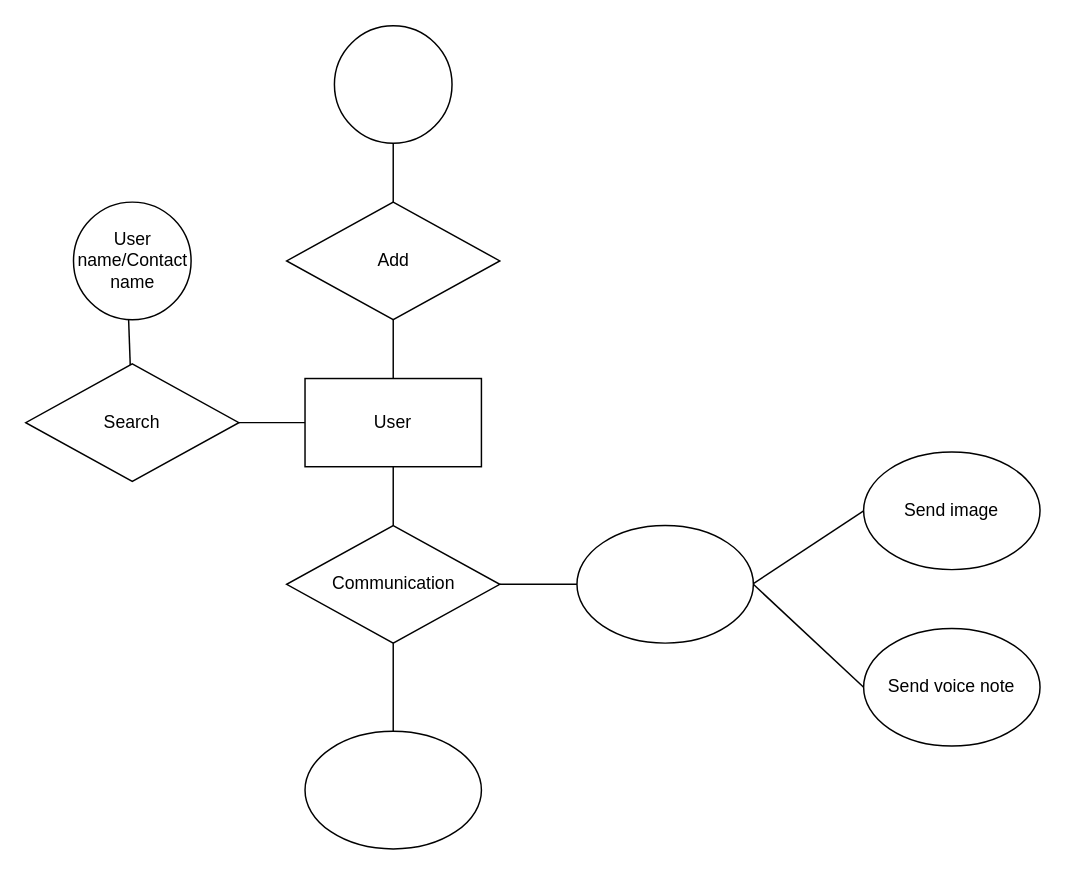
Some shapes in this 1066 by 875 pixel diagram are drawn without their labels. Here are the shapes that lost their labels. From the top down, the box of each, then its label:
(333, 24, 452, 143): Contact
(576, 524, 753, 643): Send file/document
(304, 730, 481, 849): Send message text
